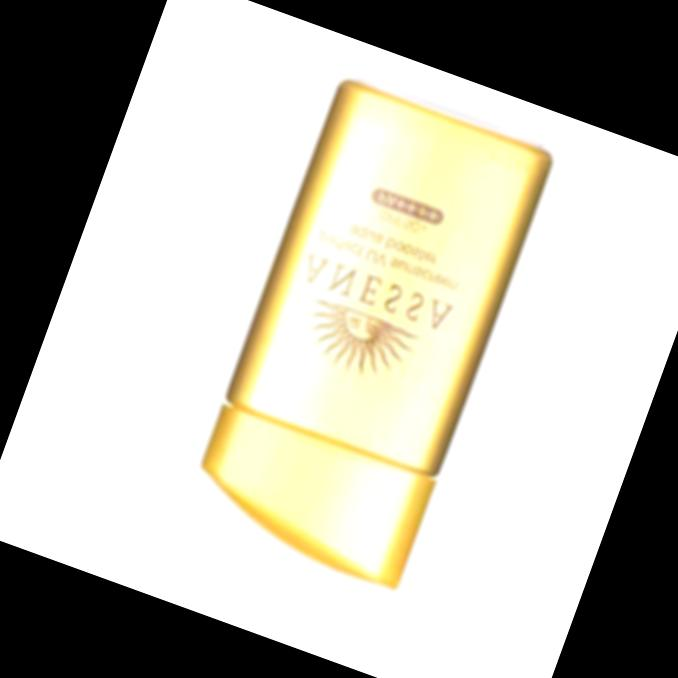cosmetic: (177, 77, 556, 594)
